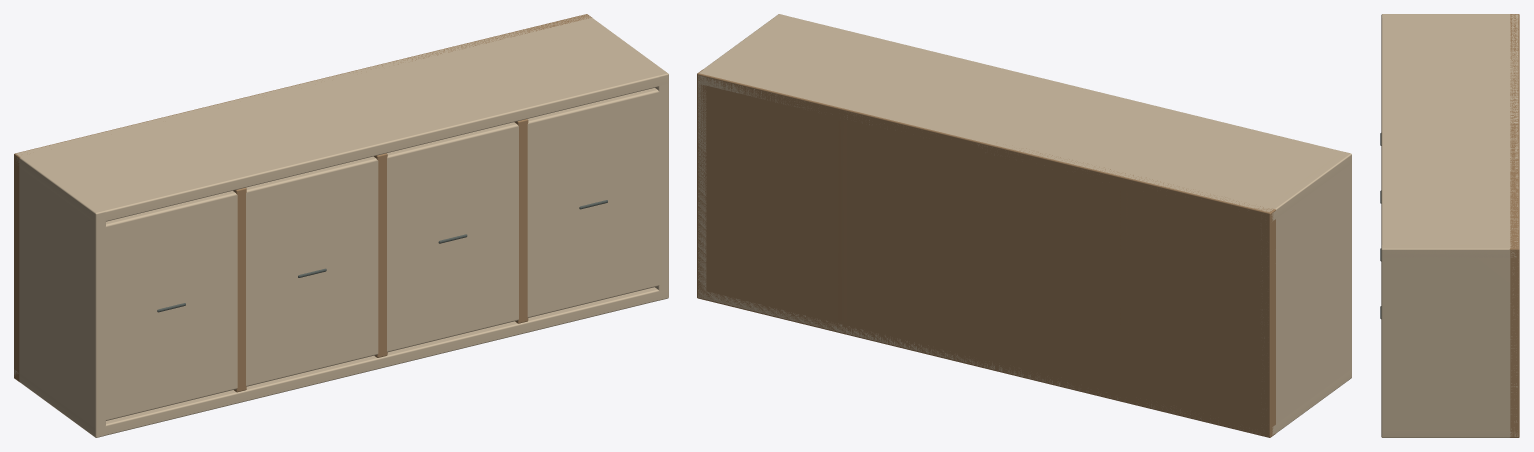
3 renders of one model, left to right at view 1: azimuth 30°, elevation 25°; view 2: azimuth 150°, elevation 25°; view 3: azimuth 270°, elevation 25°, orthographic. The views are drawn at different scales.
Visible parts, largest first — view 1: top, front_0_3, front_0_1, front_0_0, front_0_2, side_-1, bottom, back, side_1, divider_2, divider_3, divider_1; view 2: back, top, side_-1, bottom, side_1, divider_3; view 3: top, side_1, back, bottom, side_-1.
Part boxes in pixels (bbox=[...]): top: bbox=[14, 14, 667, 222]; front_0_3: bbox=[527, 88, 659, 317]; front_0_1: bbox=[246, 156, 378, 386]; front_0_0: bbox=[105, 191, 237, 420]; front_0_2: bbox=[387, 122, 518, 352]; side_-1: bbox=[16, 152, 105, 437]; bottom: bbox=[14, 287, 667, 436]; back: bbox=[14, 14, 592, 381]; side_1: bbox=[584, 16, 668, 300]; divider_2: bbox=[374, 153, 387, 357]; divider_3: bbox=[514, 119, 528, 323]; divider_1: bbox=[233, 187, 246, 392]; back: bbox=[697, 69, 1275, 437]; top: bbox=[698, 14, 1351, 221]; side_-1: bbox=[1261, 151, 1351, 433]; bottom: bbox=[698, 289, 1351, 435]; side_1: bbox=[698, 14, 787, 298]; divider_3: bbox=[838, 120, 846, 322]; top: bbox=[1381, 14, 1518, 257]; side_1: bbox=[1381, 245, 1518, 437]; back: bbox=[1509, 14, 1519, 437]; bottom: bbox=[1382, 430, 1517, 436]; side_-1: bbox=[1381, 14, 1518, 18].
Size of the model in its own units: 2.4 by 0.9 by 0.6.
